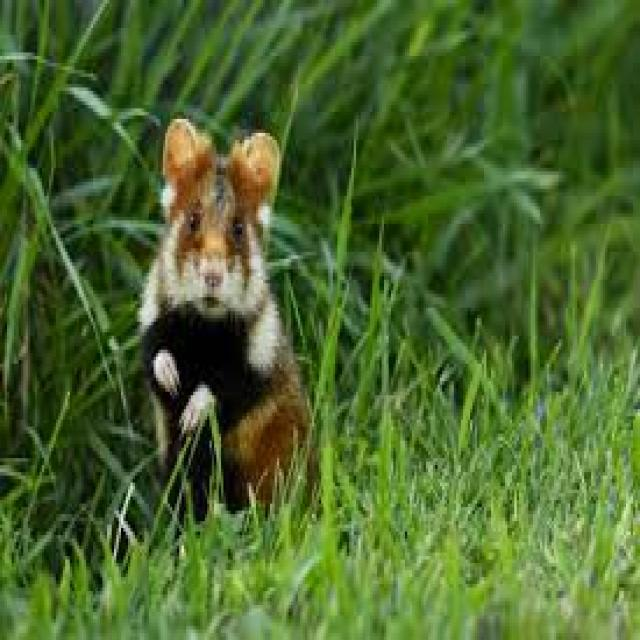hamster: (137, 119, 307, 518)
